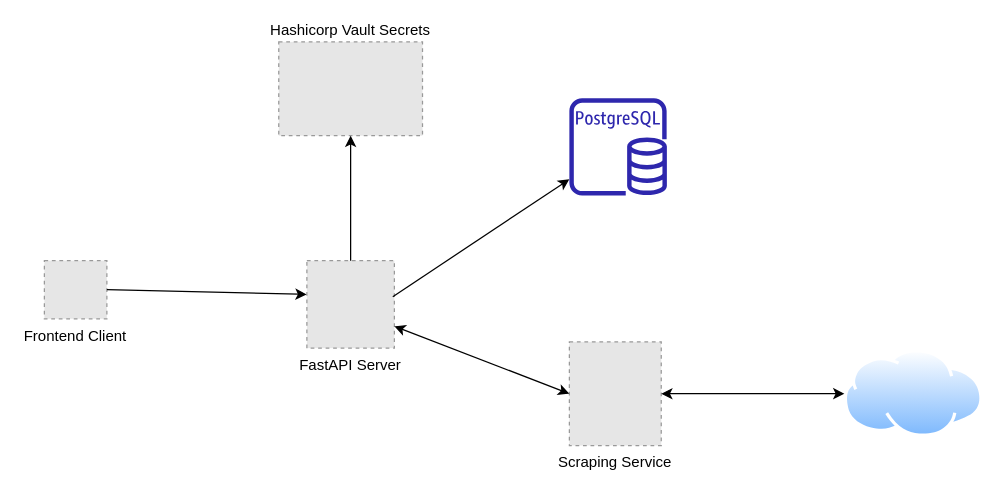
This 1005x493 diagram has some shape labels left out. Grey dashed boxes stand in for pictures. The shapes that lost their labels are listed below. From the top down, each one's centre as x and y in pixels, then its label:
At pixel 617 146: "Aggregated Transactions".
At pixel 913 393: "Transaction Data".
